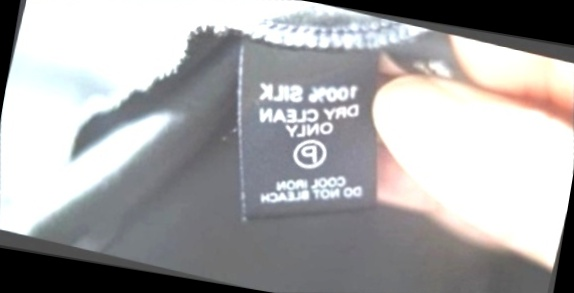dry_clean_any_solvent_except_trichloroethylene: (281, 126, 337, 180)
